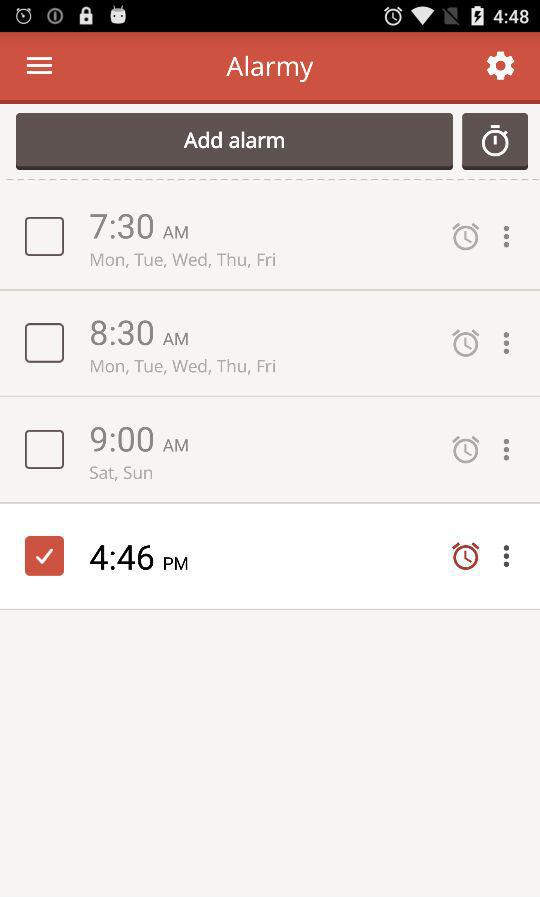CheckedTextView: (25, 536, 65, 577), (25, 323, 65, 364), (25, 430, 65, 470), (25, 217, 65, 257)
Icon: (462, 114, 529, 171), (486, 51, 516, 83), (451, 328, 480, 359), (451, 541, 480, 571), (451, 435, 480, 465), (452, 223, 480, 252), (27, 56, 54, 76), (503, 544, 511, 569), (503, 331, 511, 356), (503, 225, 510, 250), (503, 438, 510, 462)
Text: (91, 358, 277, 377), (91, 252, 277, 270), (225, 55, 315, 85), (90, 544, 155, 572), (91, 426, 154, 454), (90, 213, 155, 240), (91, 320, 155, 347), (89, 465, 154, 483), (163, 438, 190, 454), (163, 332, 190, 347), (163, 226, 190, 241), (164, 556, 189, 571)
TextButton: (16, 113, 454, 171)
Toolbar: (1, 33, 540, 105)
UpperTaskBar: (1, 1, 540, 33)
